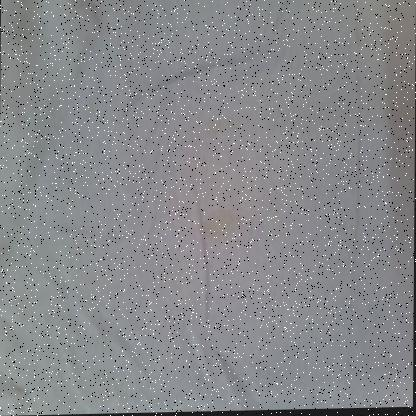spot: (180, 112, 239, 143), (196, 208, 242, 245)
